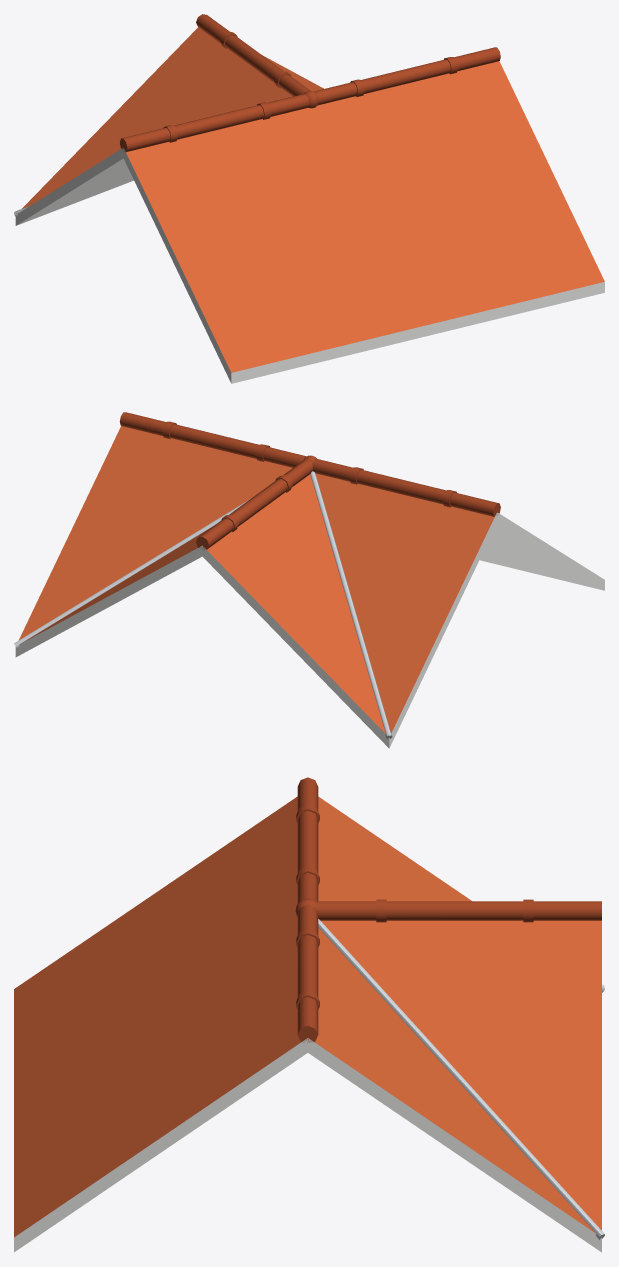
The model's file is telhado_encontro_t_v4_i75.glb.
The picture shows the model from 3 angles, top to bottom: view 1: azimuth 30°, elevation 25°; view 2: azimuth 150°, elevation 25°; view 3: azimuth 270°, elevation 25°; orthographic projection. The views are drawn at different scales.
Visible parts, largest first — view 1: telhado_encontro_t_v4_i75; view 2: telhado_encontro_t_v4_i75; view 3: telhado_encontro_t_v4_i75.
Boxes of the visible parts, box(x1,y1,x2,y2) form: telhado_encontro_t_v4_i75: box(14, 14, 604, 383); telhado_encontro_t_v4_i75: box(14, 412, 604, 748); telhado_encontro_t_v4_i75: box(14, 777, 604, 1252).
Size of the model in its own units: 4.04 by 1.72 by 4.02.
Materials: 4 (1 with a texture image).
